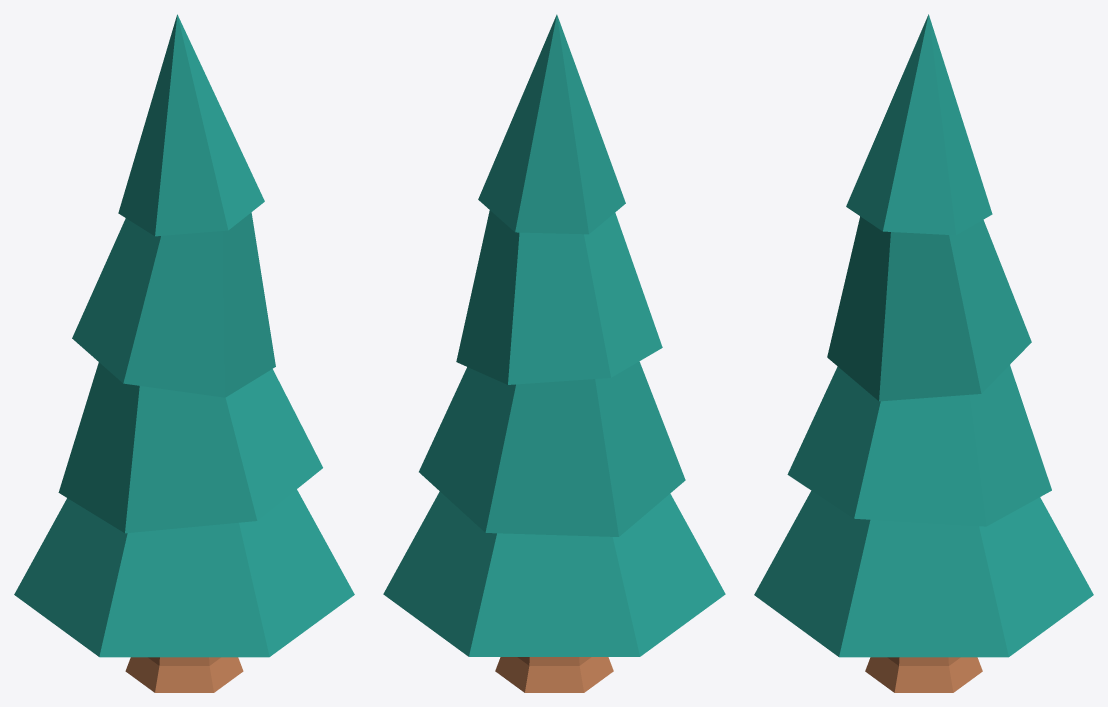
File: treePine.fbx
3 renders of one model, left to right at view 1: azimuth 30°, elevation 25°; view 2: azimuth 150°, elevation 25°; view 3: azimuth 270°, elevation 25°, orthographic.
Parts seen in each view (by area): view 1: treePine; view 2: treePine; view 3: treePine.
Part boxes in pixels (x1,y1,x2,y2): treePine: (14, 14, 354, 692); treePine: (383, 14, 725, 692); treePine: (754, 14, 1093, 692).
Size of the model in its own units: 6.51 by 15.98 by 7.52.
